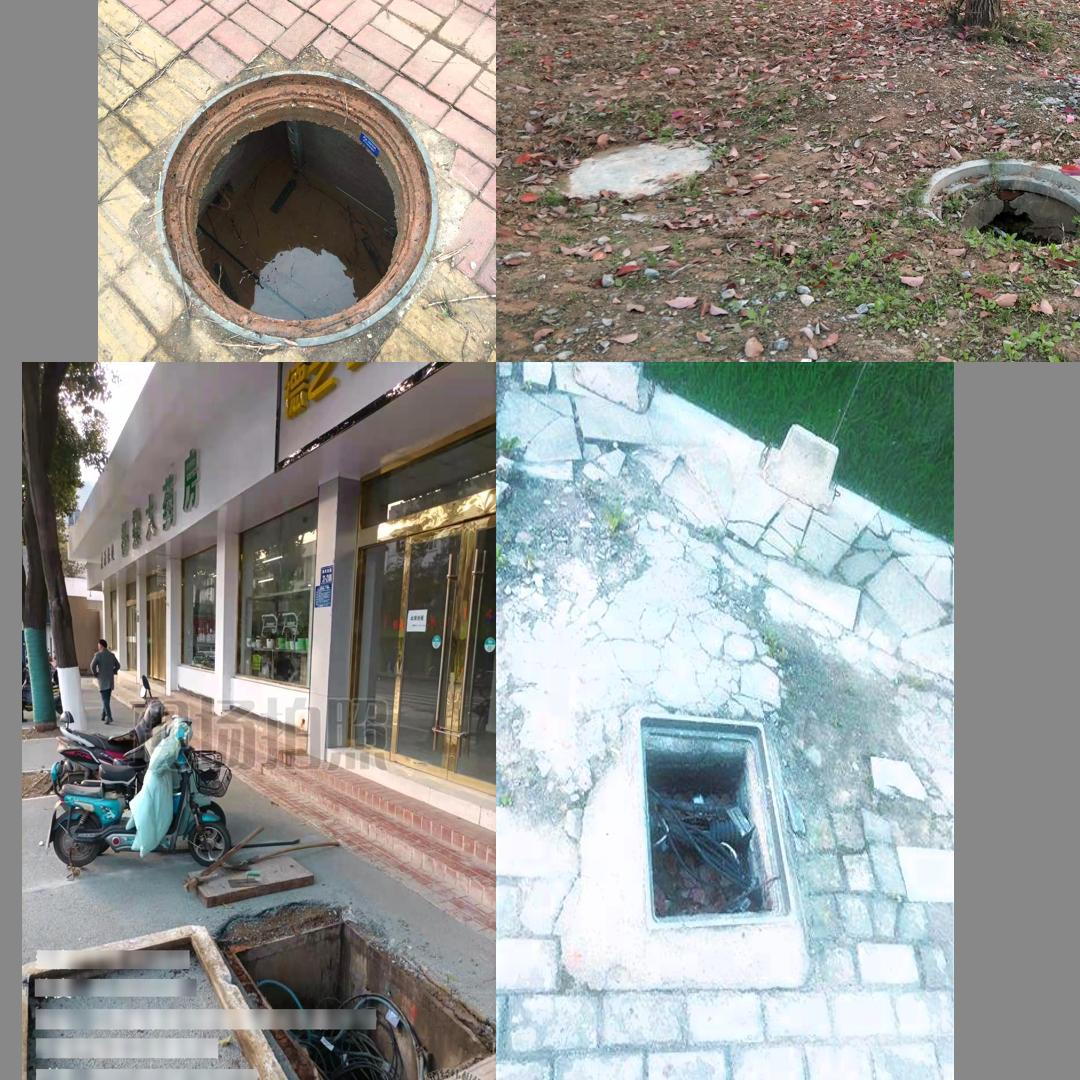lose: (147, 63, 440, 336), (607, 697, 814, 988), (221, 914, 494, 1080), (920, 156, 1080, 249)
